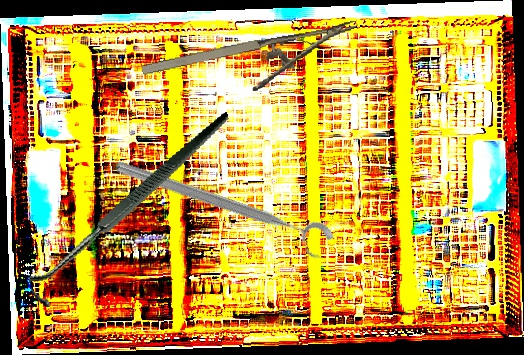Fixation Ring: (108, 153, 337, 264)
Hook Surgical: (0, 111, 263, 311)
Needle Holder: (140, 20, 366, 110)
